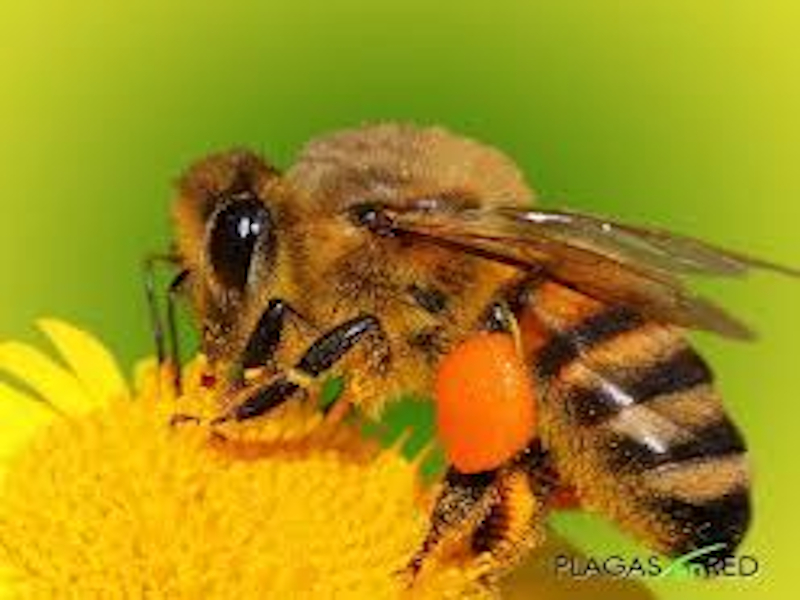abeja: (127, 112, 793, 600)
